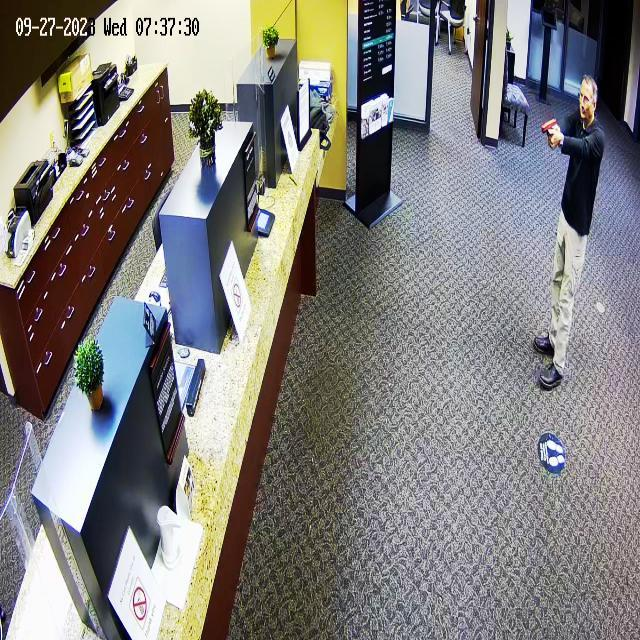Gun: (532, 111, 566, 157)
